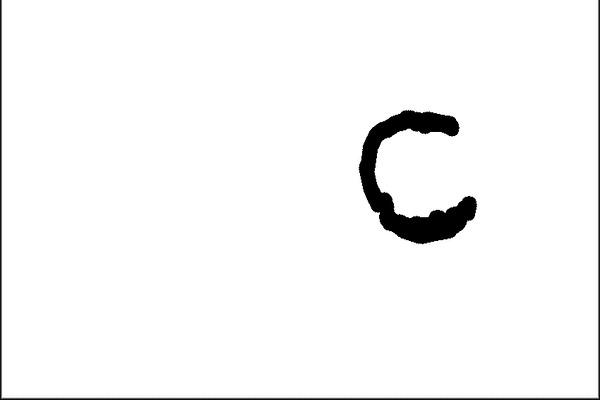C: (354, 105, 481, 248)
